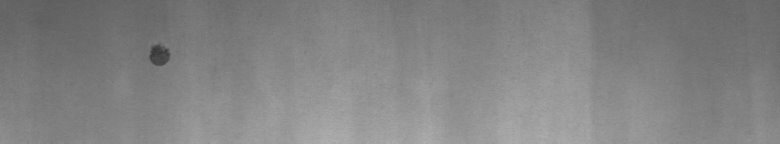fi: (144, 36, 175, 73)
